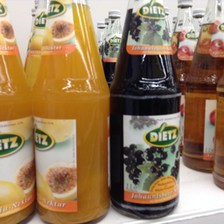juice: (31, 1, 111, 224), (111, 1, 183, 220), (183, 1, 222, 171)
